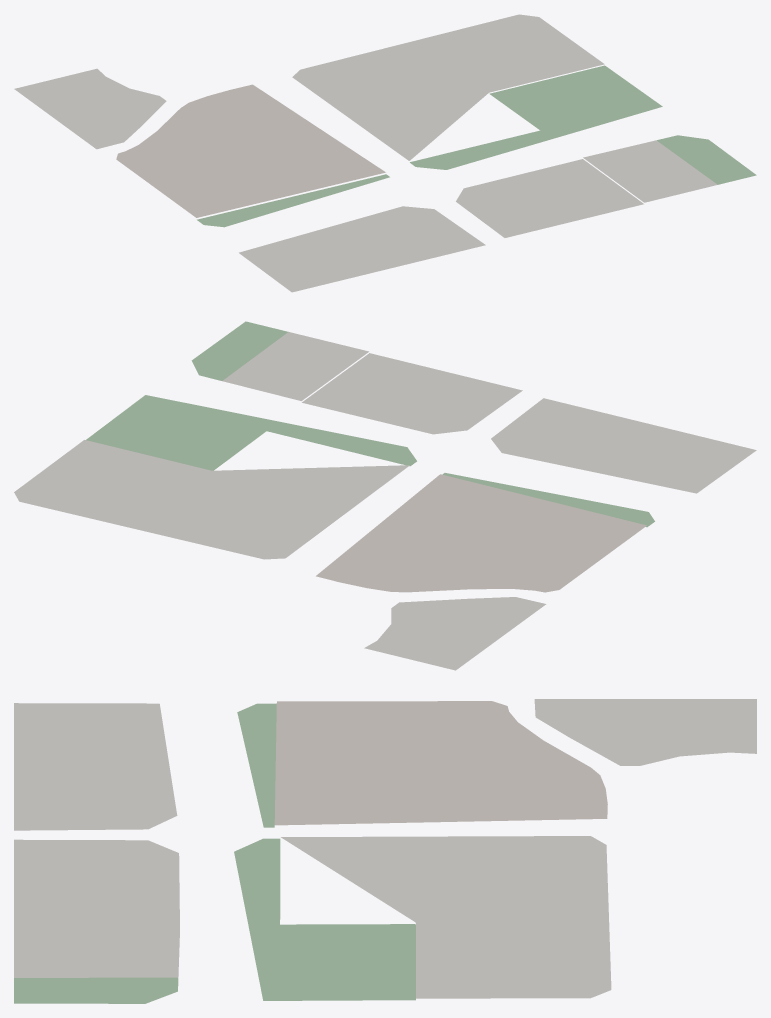
File: 124_66_mid.glb
3 views of the same model, one above another, from view 1: azimuth 30°, elevation 25°; view 2: azimuth 150°, elevation 25°; view 3: azimuth 270°, elevation 25° (orthographic). The views are drawn at different scales.
Size of the model in its own units: 489 by 6.03 by 500.
